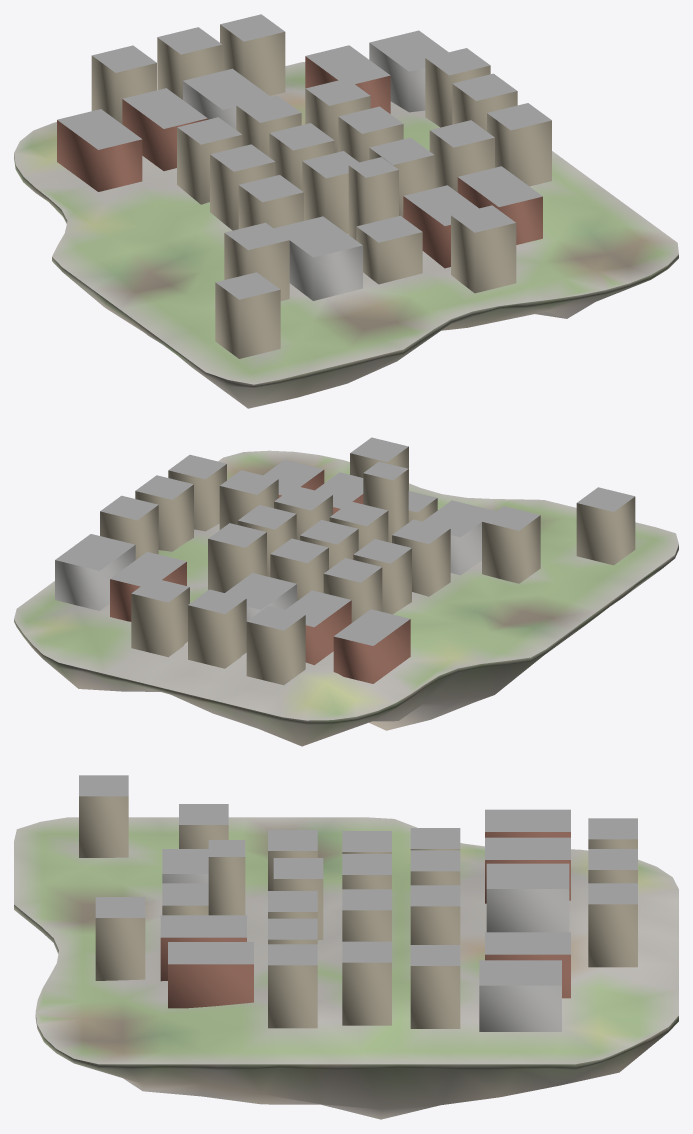
The model's file is SKY-076.lod1.glb.
3 renders of one model, top to bottom at view 1: azimuth 30°, elevation 25°; view 2: azimuth 150°, elevation 25°; view 3: azimuth 270°, elevation 25°, orthographic. The views are drawn at different scales.
Parts seen in each view (by area): view 1: buildings, deck, rock; view 2: buildings, deck, rock; view 3: buildings, deck, rock.
Part boxes in pixels (bbox=[...]): buildings: bbox=[57, 14, 551, 358]; deck: bbox=[14, 62, 678, 384]; rock: bbox=[14, 154, 678, 408]; buildings: bbox=[55, 437, 635, 685]; deck: bbox=[14, 450, 678, 720]; rock: bbox=[14, 545, 678, 746]; buildings: bbox=[79, 775, 637, 1031]; deck: bbox=[14, 817, 678, 1064]; rock: bbox=[14, 905, 678, 1119].
Bounding box in the file's own units: 176 × 84.54 × 201.
